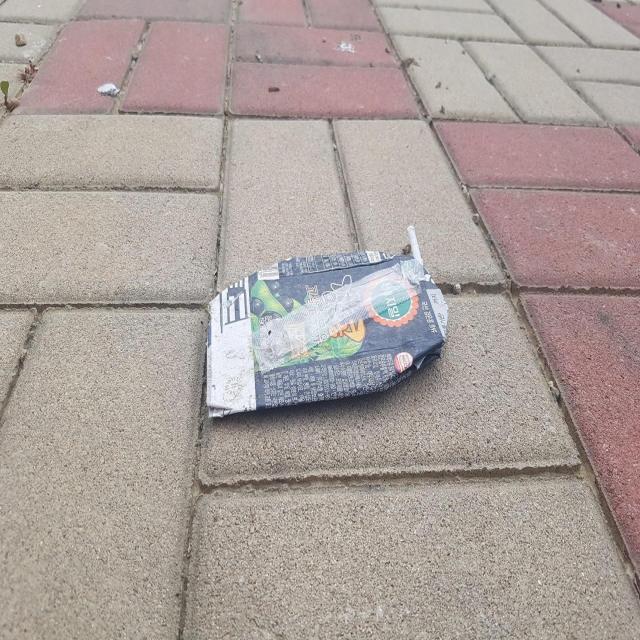paperpack: (207, 250, 449, 417)
